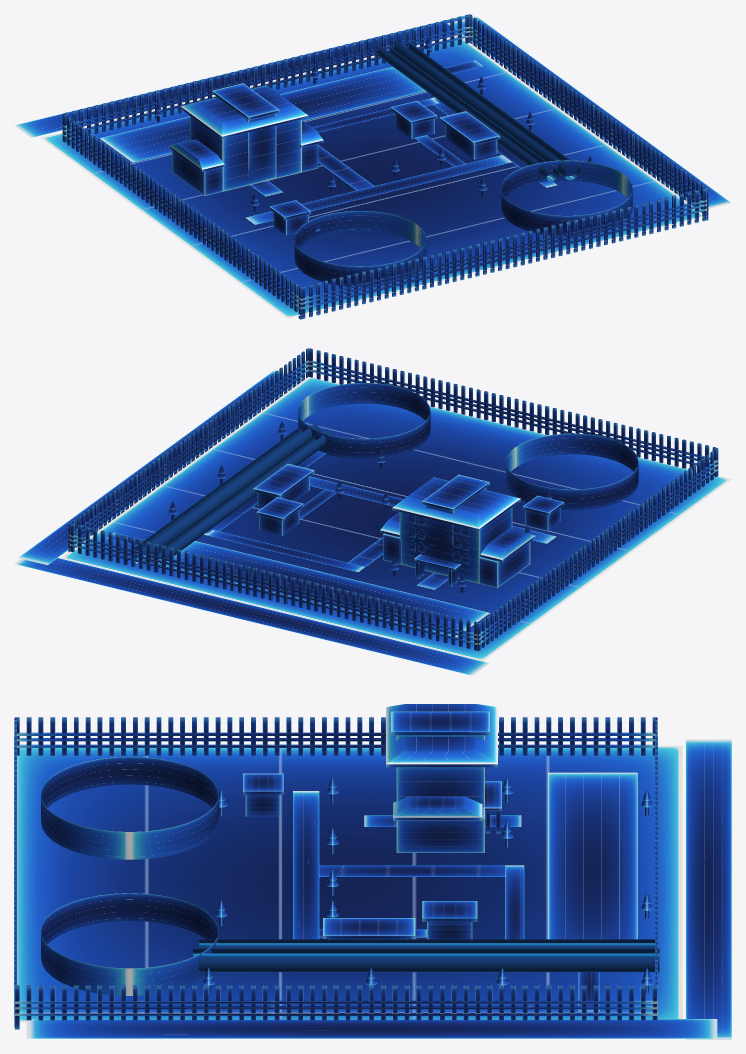
3 views of the same model, one above another, from view 1: azimuth 30°, elevation 25°; view 2: azimuth 150°, elevation 25°; view 3: azimuth 270°, elevation 25° (orthographic). The views are drawn at different scales.
Parts seen in each view (by area): view 1: 空白.8, 管道.001, 管道; view 2: 空白.8, 管道.001, 管道; view 3: 空白.8, 管道.001, 管道.
Part boxes in pixels (x1,y1,x2,y2): 空白.8: (14,14,731,319); 管道.001: (393,40,579,180); 管道: (377,45,558,181); 空白.8: (14,348,731,675); 管道.001: (130,422,319,564); 管道: (150,429,333,565); 空白.8: (14,704,731,1039); 管道.001: (193,948,659,972); 管道: (199,939,655,948).
Size of the model in its own units: 185 by 30.43 by 186.
Materials: 3 (3 with a texture image).
